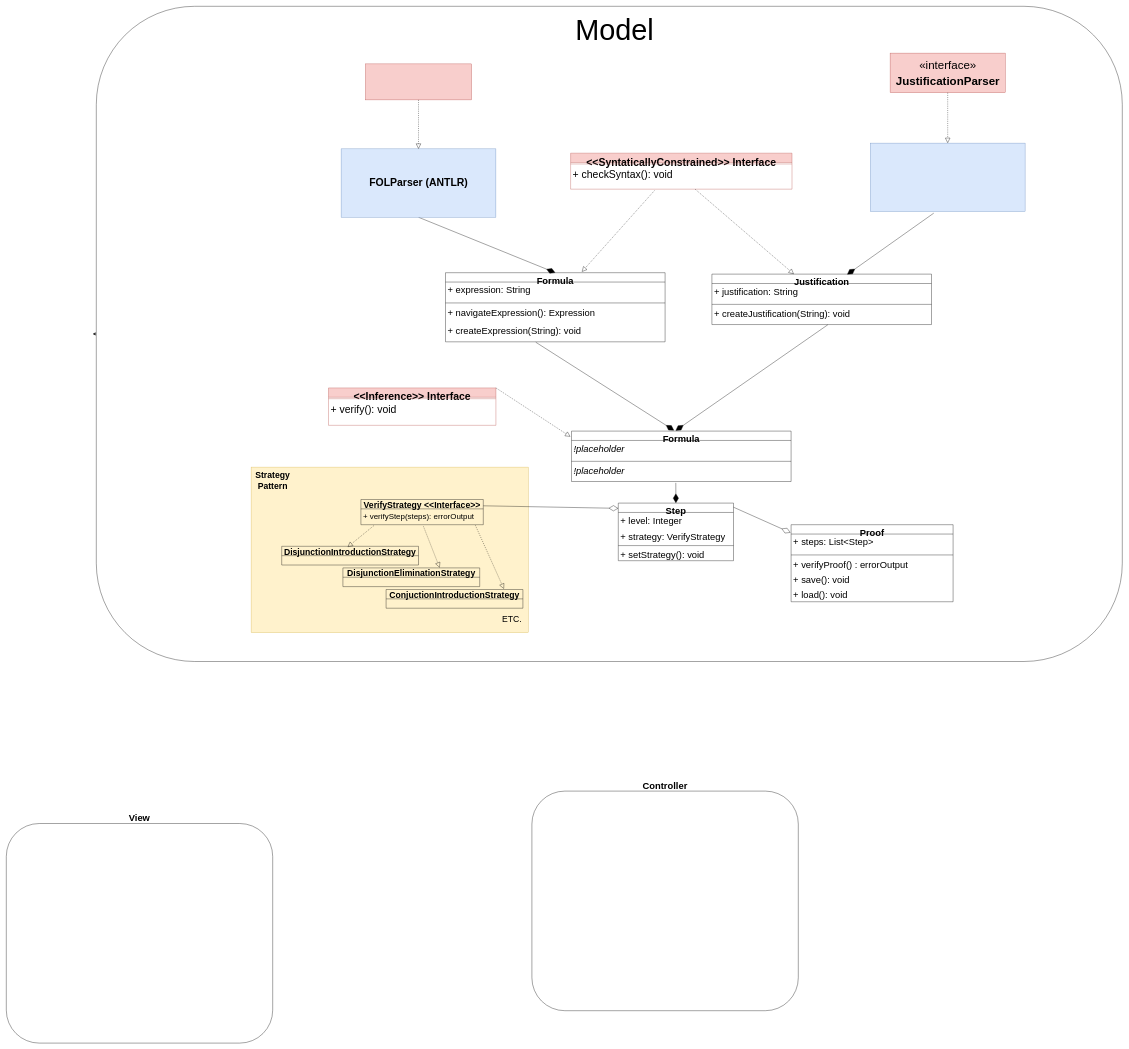
This 1129x1049 diagram has some shape labels left out. Each missing label, with the centre of its shape:
"JustificationSyntaxChecker (REGEX)" goes at (x=947, y=177).
"«interface» ExpressionParser" goes at (x=418, y=82).
